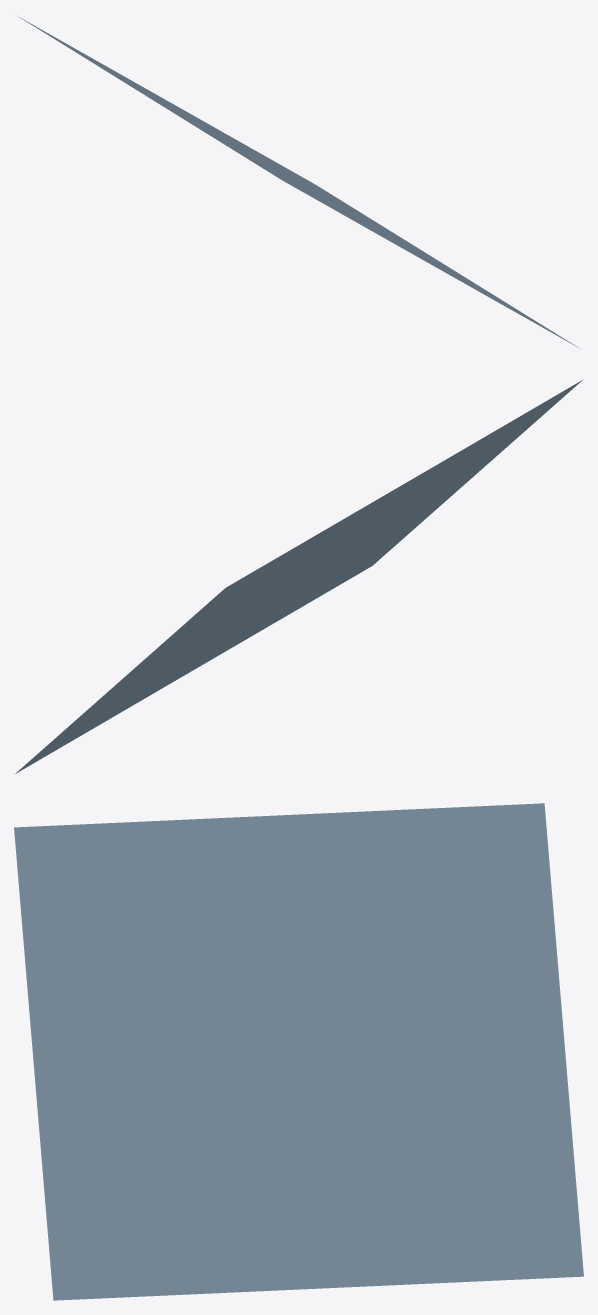
3 views of the same model, one above another, from view 1: azimuth 30°, elevation 25°; view 2: azimuth 150°, elevation 25°; view 3: azimuth 270°, elevation 25° (orthographic). The views are drawn at different scales.
Bounding box in the file's own units: 436 × 312 × 535.
